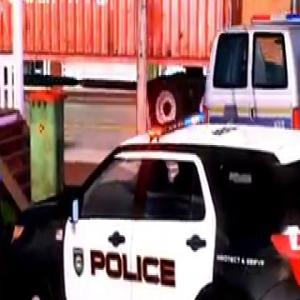superficial: (0, 116, 300, 300)
